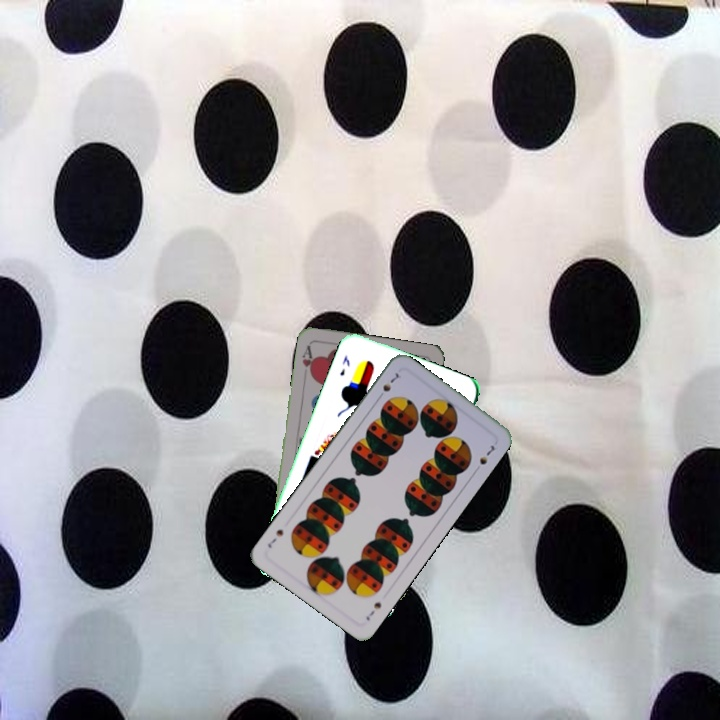EK: (336, 351, 353, 378)
HA: (298, 341, 317, 380)
S7: (373, 368, 402, 402), (362, 598, 384, 623)
